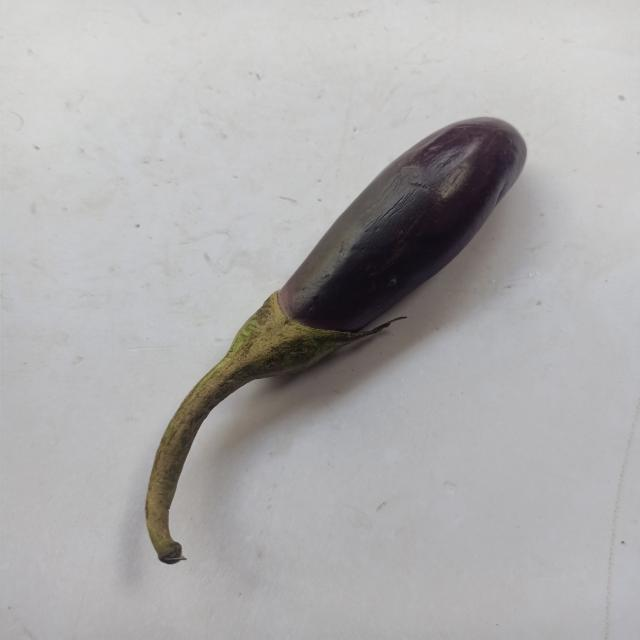Brinjal: (91, 88, 554, 578)
